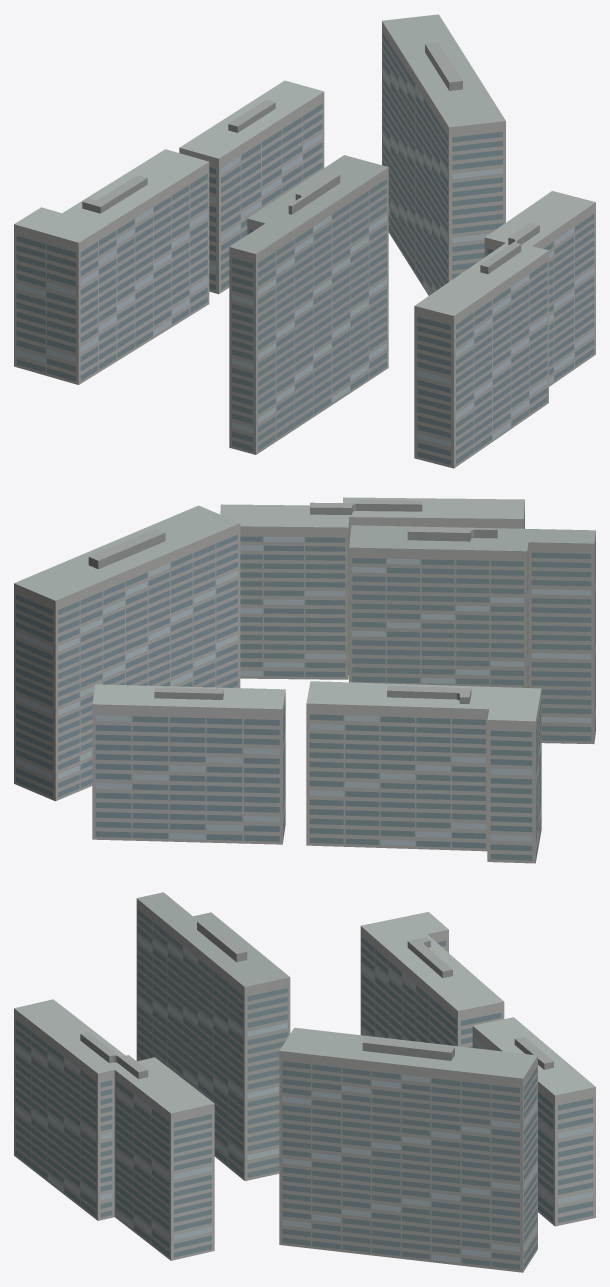
Rendered from apt-a12205003.glb.
3 renders of one model, top to bottom at view 1: azimuth 30°, elevation 25°; view 2: azimuth 150°, elevation 25°; view 3: azimuth 270°, elevation 25°, orthographic. The views are drawn at different scales.
Parts seen in each view (by area): view 1: apt-a12205003; view 2: apt-a12205003; view 3: apt-a12205003.
Part boxes in pixels (x1=…): apt-a12205003: x1=14, y1=14, x2=595, y2=468; apt-a12205003: x1=14, y1=497, x2=595, y2=863; apt-a12205003: x1=14, y1=892, x2=595, y2=1272.
Bounding box in the file's own units: 140 × 59 × 154.
